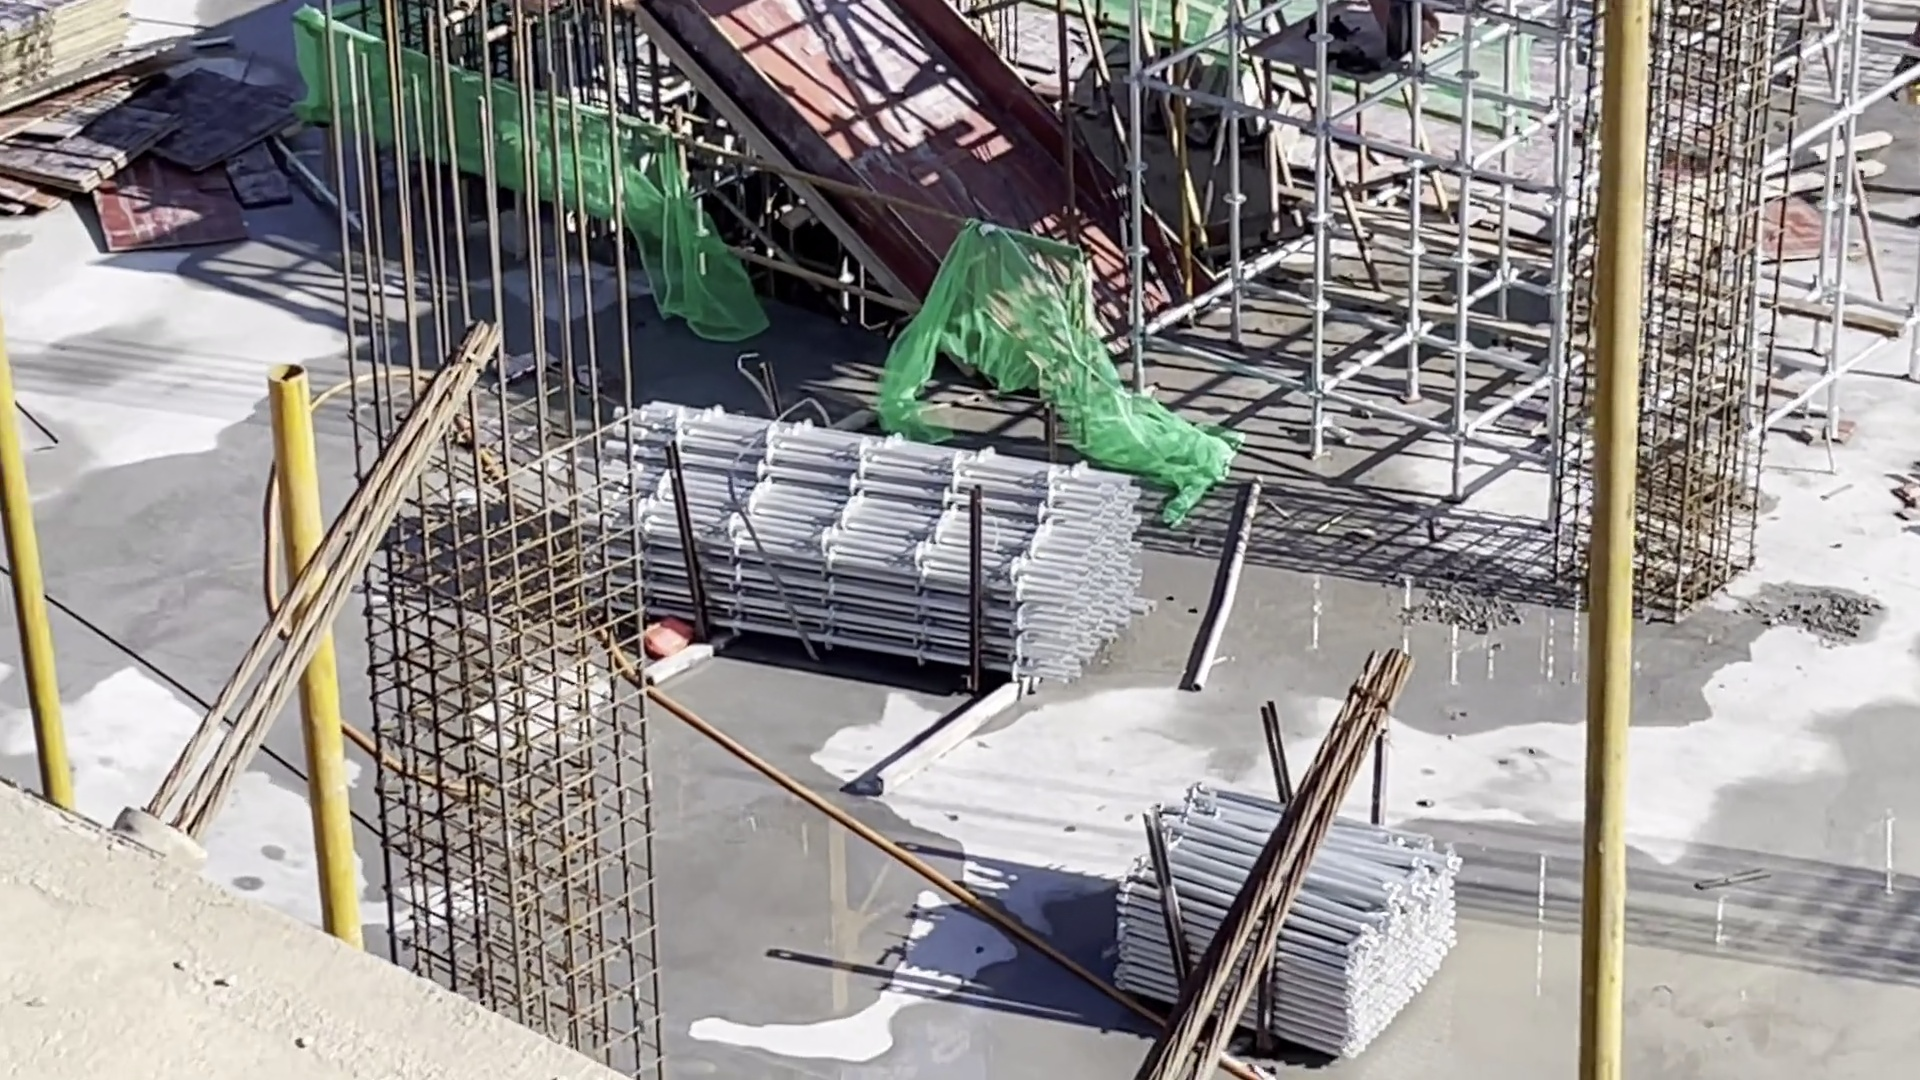scaffold: (588, 402, 1154, 694), (1117, 783, 1461, 1052)
